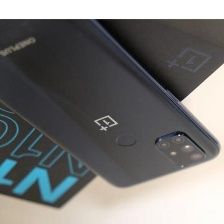book: (0, 0, 224, 214)
phone: (0, 0, 221, 194)
